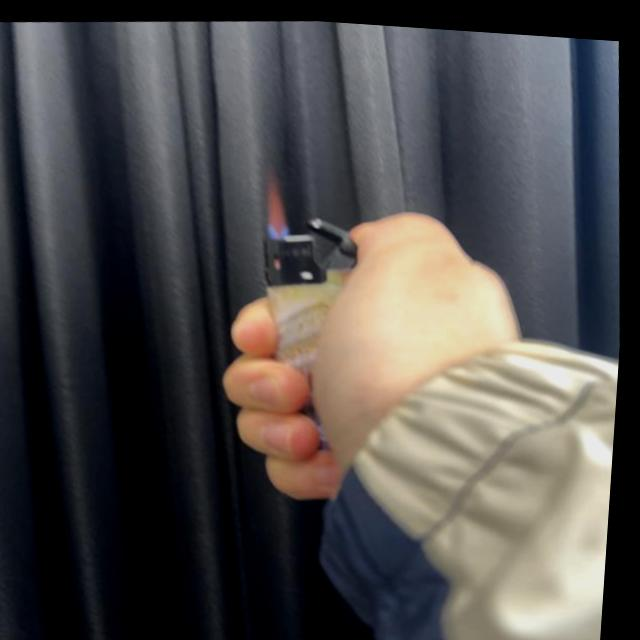Fire: (263, 171, 295, 238)
